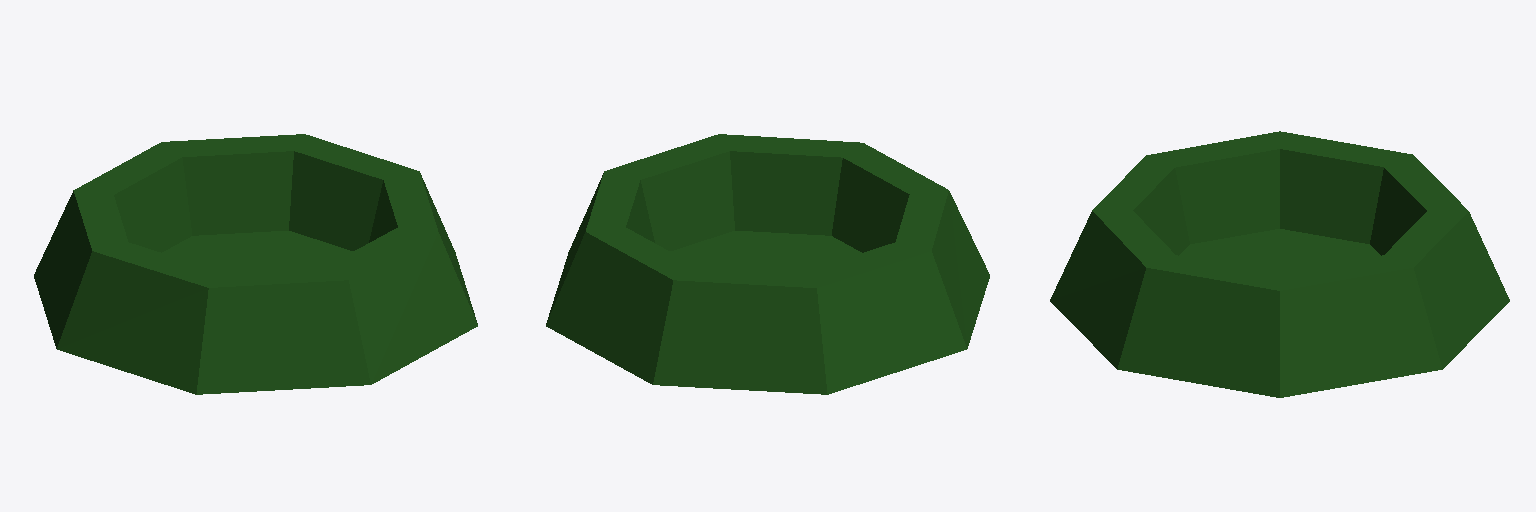
The model's file is HQ_food_bowl.obj.
3 views of the same model, side by side, from view 1: azimuth 30°, elevation 25°; view 2: azimuth 150°, elevation 25°; view 3: azimuth 270°, elevation 25° (orthographic).
Parts seen in each view (by area): view 1: HQ_food_bowl; view 2: HQ_food_bowl; view 3: HQ_food_bowl.
Boxes of the visible parts, x1=… form: HQ_food_bowl: x1=34, y1=134, x2=477, y2=394; HQ_food_bowl: x1=546, y1=134, x2=989, y2=394; HQ_food_bowl: x1=1050, y1=131, x2=1509, y2=397.
Size of the model in its own units: 3.49 by 0.75 by 3.49.